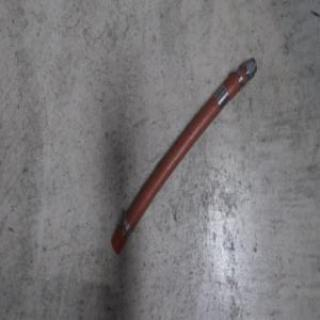Hosetrack_idkeyframe: (108, 55, 257, 258)
